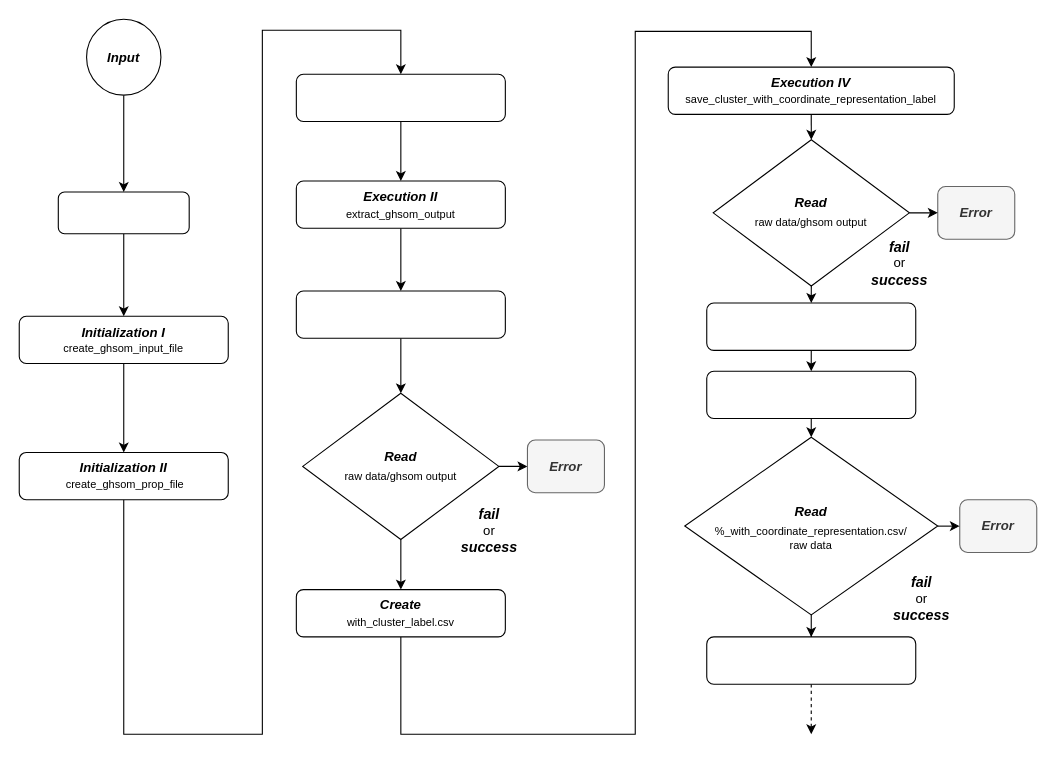
The diagram is 1056 pixels wide and 762 high, and some of its shapes have lost their labels. Each missing label, with the box of its shape:
Create %_with_coordinate_ representation.csv: (706, 302, 916, 350)
Create %s_with_point_ label.csv: (706, 636, 916, 684)
Create Folder: (57, 191, 189, 234)
Execution I ghsom_clustering: (295, 73, 505, 122)
Execution III save_ghsom_cluster _label: (295, 290, 505, 338)
Execution V GHSOM_center_point: (706, 370, 916, 419)
